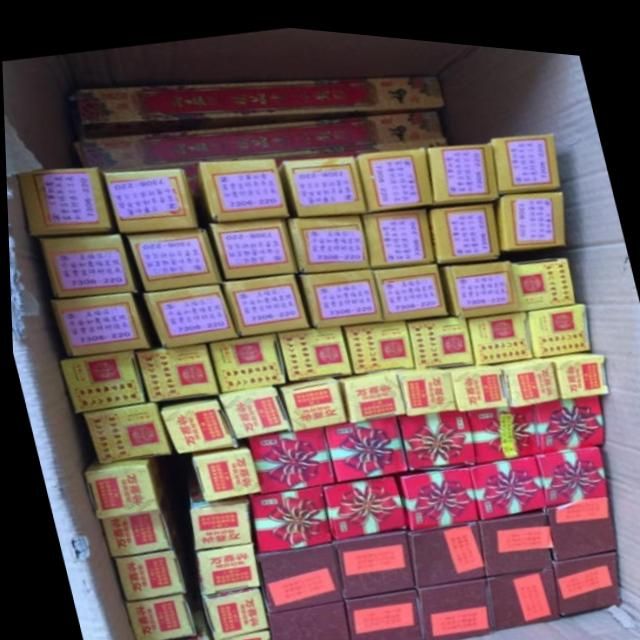box: (72, 100, 448, 197), (78, 66, 446, 136), (16, 164, 110, 237), (48, 289, 150, 355), (37, 231, 136, 296), (139, 280, 236, 345), (252, 536, 339, 608), (196, 153, 289, 218), (319, 408, 406, 476), (126, 225, 219, 288), (207, 211, 297, 276), (246, 478, 329, 548), (393, 455, 478, 523), (329, 521, 410, 592), (275, 148, 366, 211), (56, 346, 142, 412), (245, 421, 331, 487), (220, 268, 307, 333), (81, 398, 168, 462), (320, 466, 403, 533), (403, 510, 481, 580), (465, 444, 542, 511), (297, 260, 381, 321), (474, 499, 549, 567), (392, 401, 474, 463), (132, 339, 216, 399), (411, 568, 486, 635), (355, 139, 430, 206), (285, 207, 369, 266), (82, 455, 164, 515), (531, 433, 604, 498), (207, 326, 283, 388), (547, 538, 618, 604), (542, 484, 613, 550), (463, 394, 538, 456), (158, 393, 236, 452), (342, 581, 420, 640), (438, 250, 518, 307), (483, 557, 555, 620), (425, 192, 498, 254), (370, 254, 445, 314), (427, 134, 499, 196), (187, 435, 258, 497), (491, 121, 559, 184), (494, 180, 565, 240), (360, 200, 431, 260), (275, 318, 349, 375), (530, 383, 602, 441), (184, 483, 249, 547), (341, 312, 413, 366), (276, 370, 345, 426), (215, 381, 287, 434), (375, 359, 456, 406), (403, 306, 473, 360), (111, 545, 182, 598), (262, 596, 346, 640), (508, 245, 574, 300), (95, 506, 169, 555), (334, 364, 404, 415), (523, 292, 589, 346), (197, 582, 264, 635), (121, 590, 192, 640), (466, 301, 532, 354), (487, 346, 555, 396), (193, 537, 255, 591), (436, 354, 506, 401), (537, 341, 607, 388), (150, 603, 205, 640), (209, 624, 268, 640)
